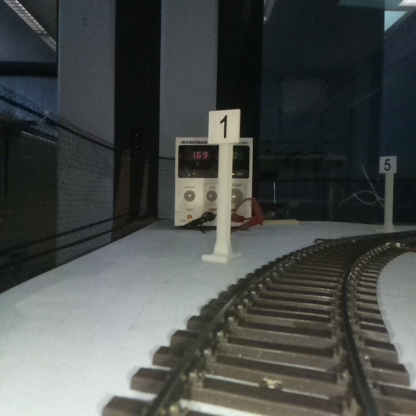white-info-1: (208, 109, 240, 259)
white-info-5: (379, 155, 396, 232)
